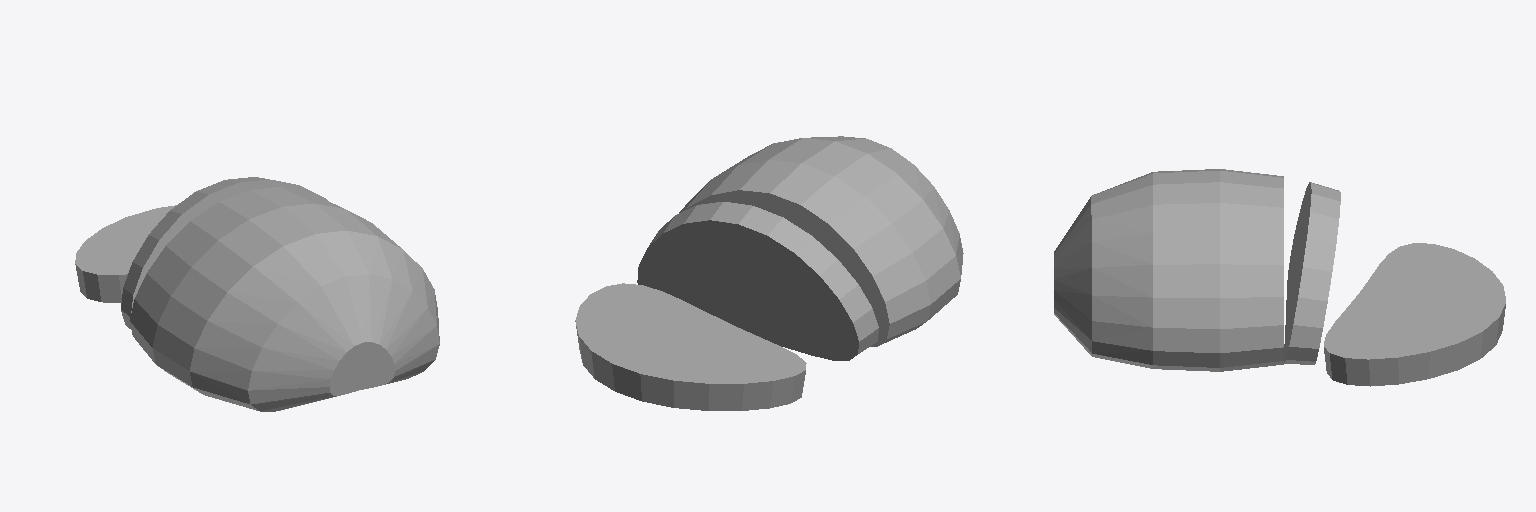
File: BREAD.obj
3 renders of one model, left to right at view 1: azimuth 30°, elevation 25°; view 2: azimuth 150°, elevation 25°; view 3: azimuth 270°, elevation 25°, orthographic.
Parts seen in each view (by area): view 1: Object_breadD.jpg; view 2: Object_breadD.jpg; view 3: Object_breadD.jpg.
Boxes of the visible parts, <box> form: Object_breadD.jpg: <box>75,177,439,411</box>; Object_breadD.jpg: <box>575,136,963,410</box>; Object_breadD.jpg: <box>1054,169,1505,386</box>.
Size of the model in its own units: 1.7 by 0.876 by 2.5.